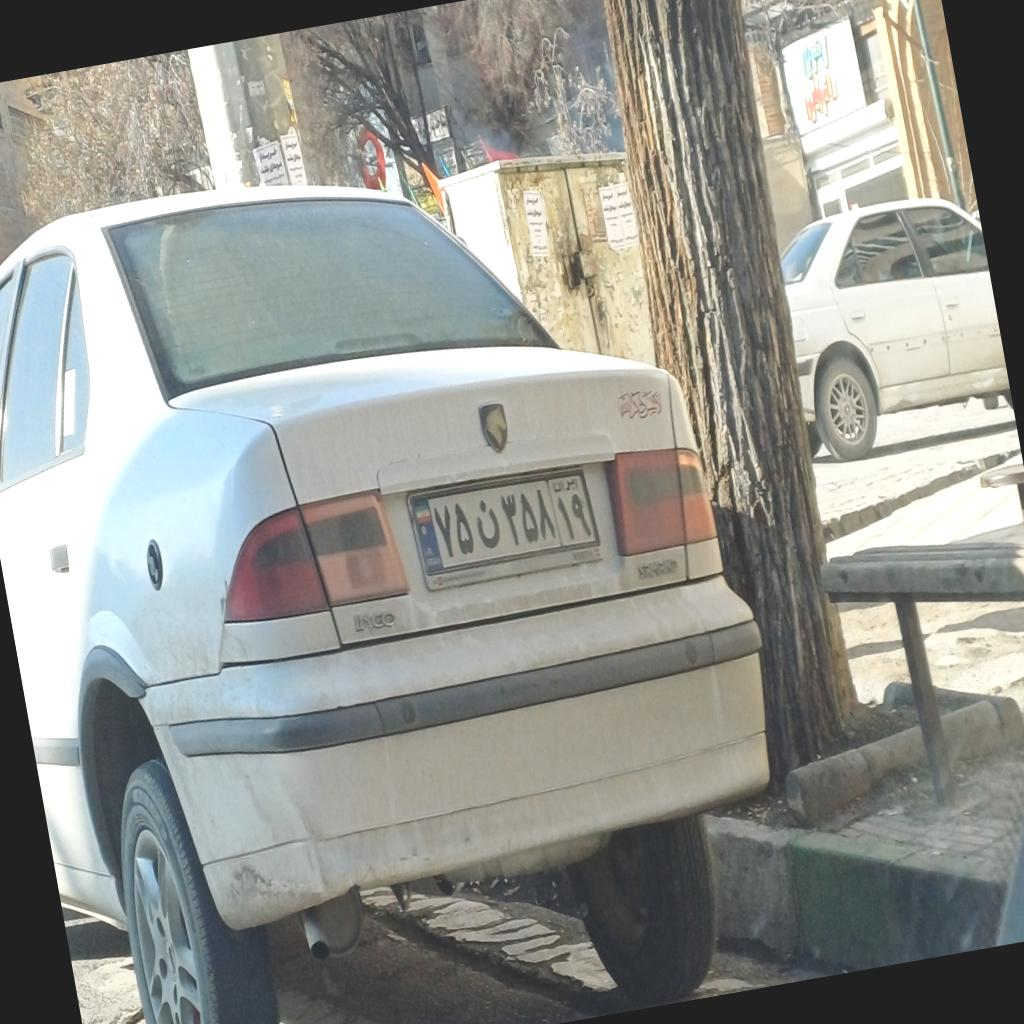Plates: (409, 465, 599, 580)
